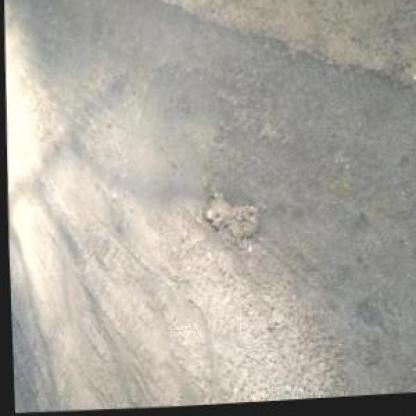pothole: (196, 178, 260, 246), (24, 83, 68, 153)
